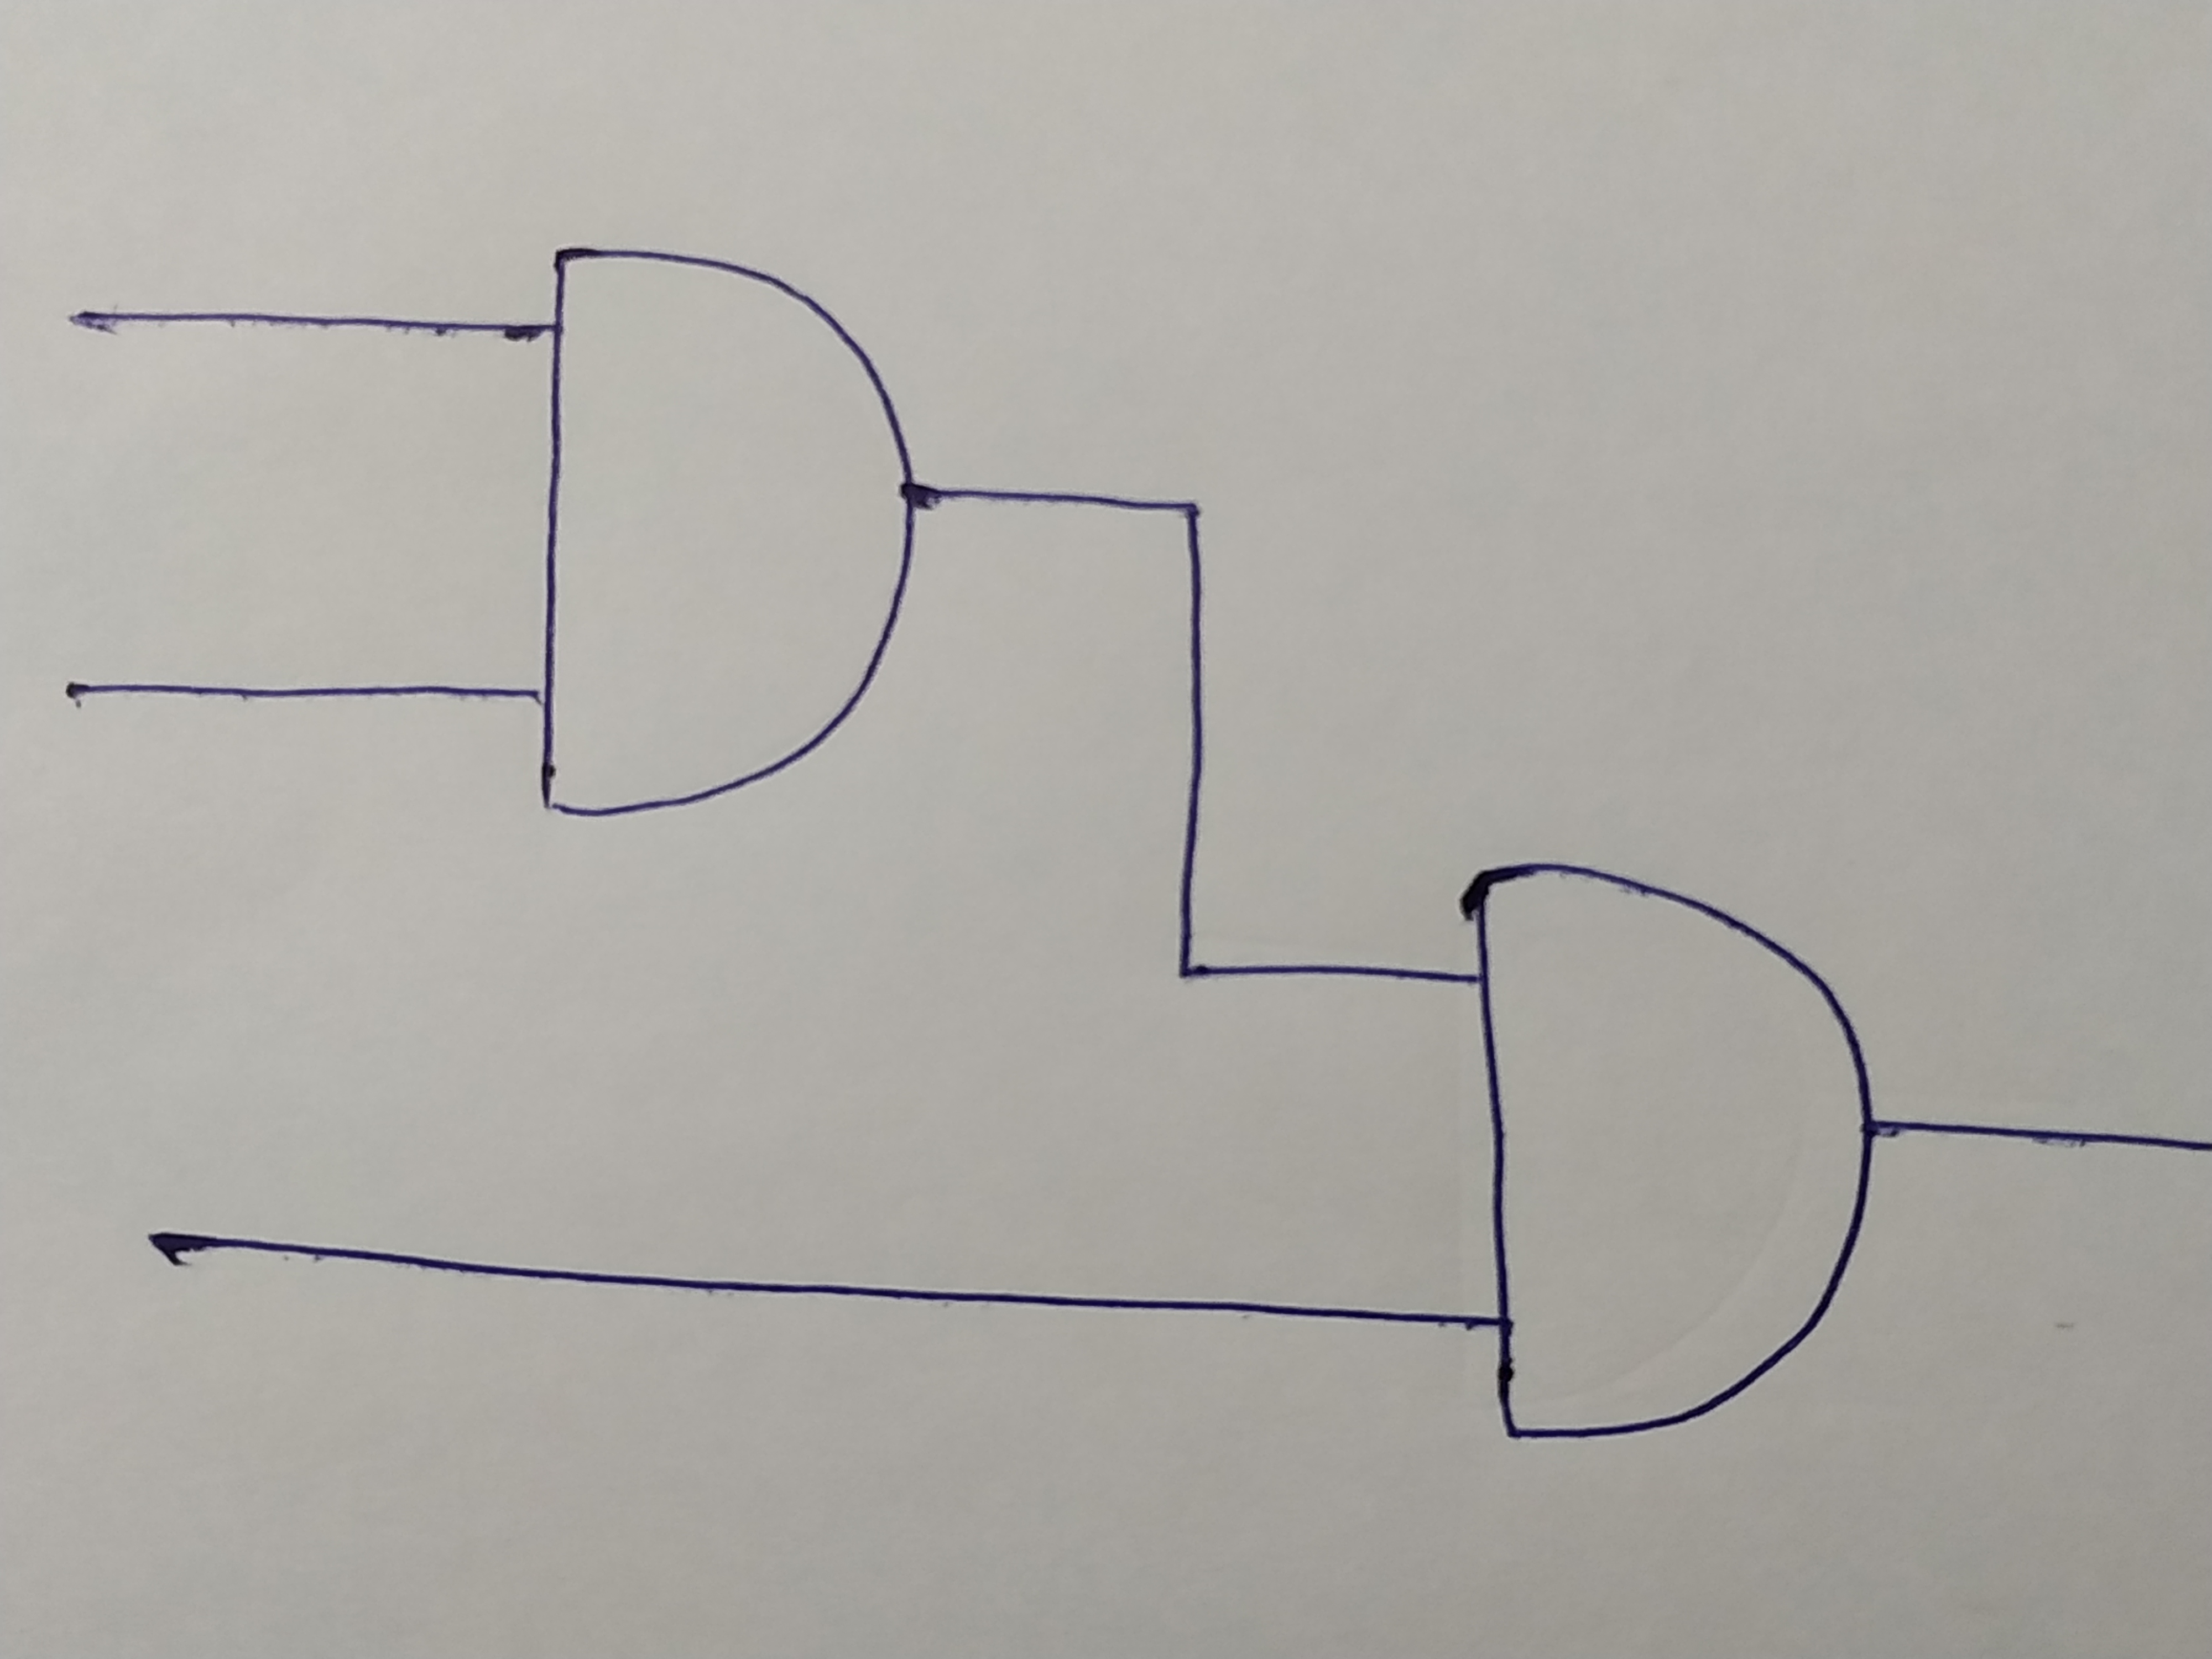and: (1467, 859, 1872, 1439), (531, 247, 911, 823)
